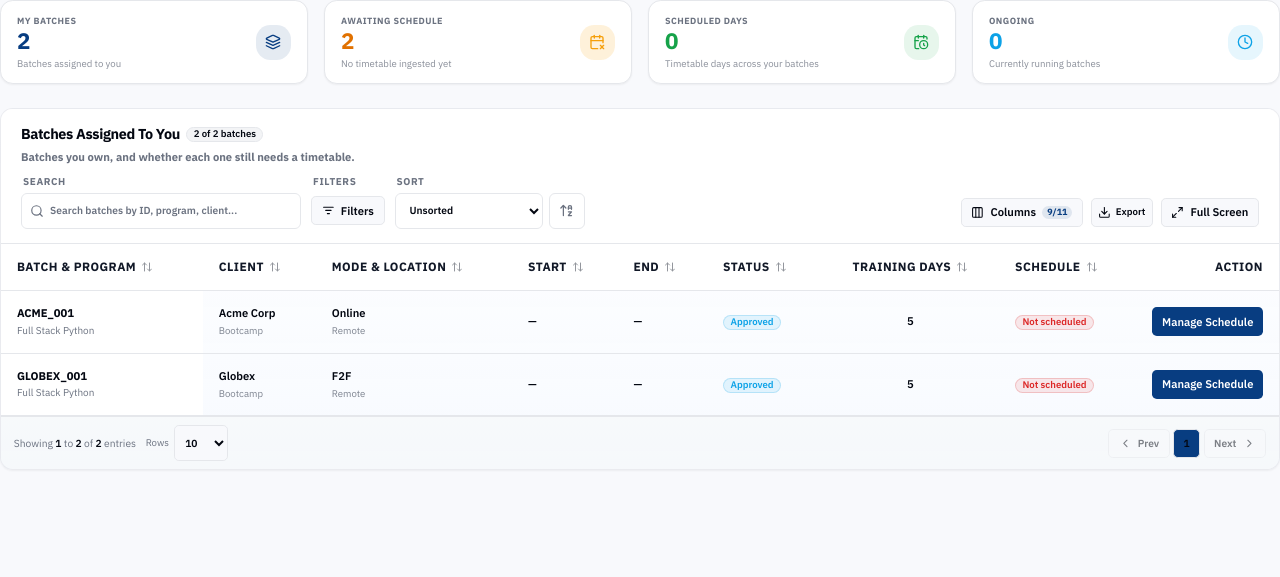
Scenario: MyBatchesView filters › clears every filter back to the full set
The image size is (1280, 577).
Click the button "Filters" at (348, 211), box x1=311 y1=196 x2=384 y2=225
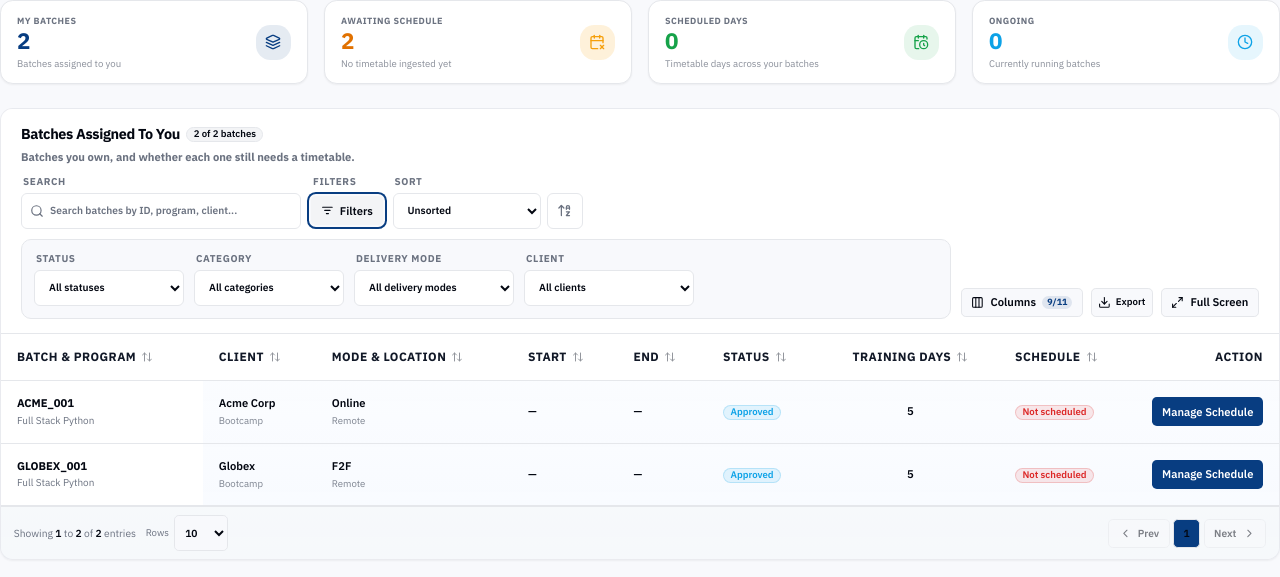
Select "Globex" in the dropdown labelled "Client" at (609, 288), box x1=524 y1=270 x2=694 y2=306
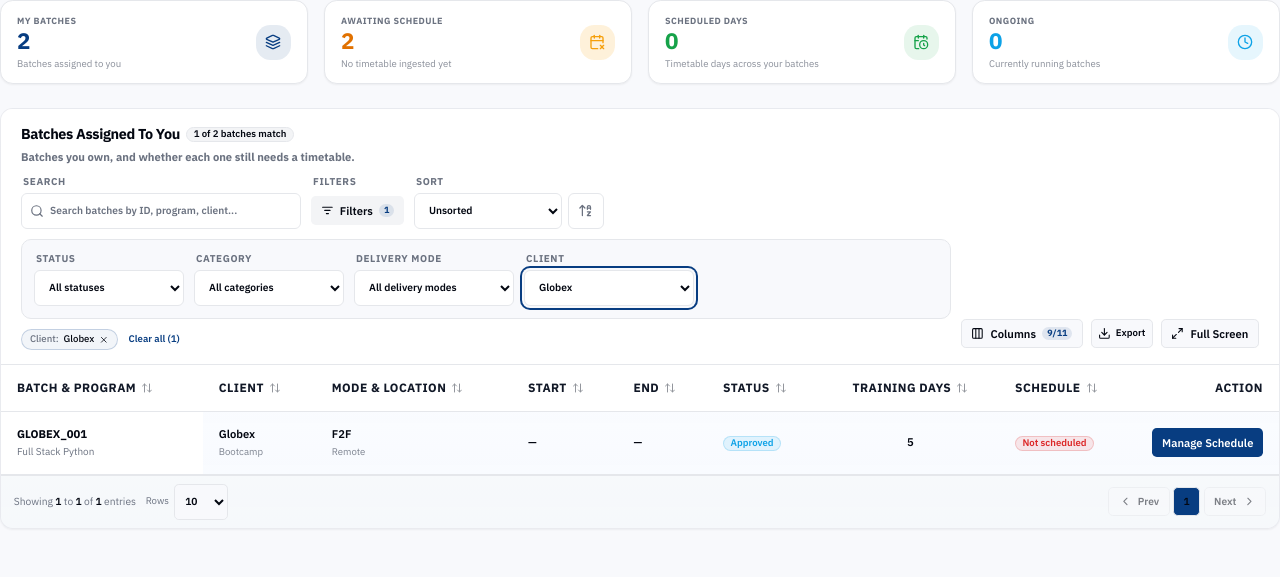
expect the text "ACME_001" is gone: met
Click the button "Clear all (1)" at (154, 339), box x1=124 y1=330 x2=185 y2=349
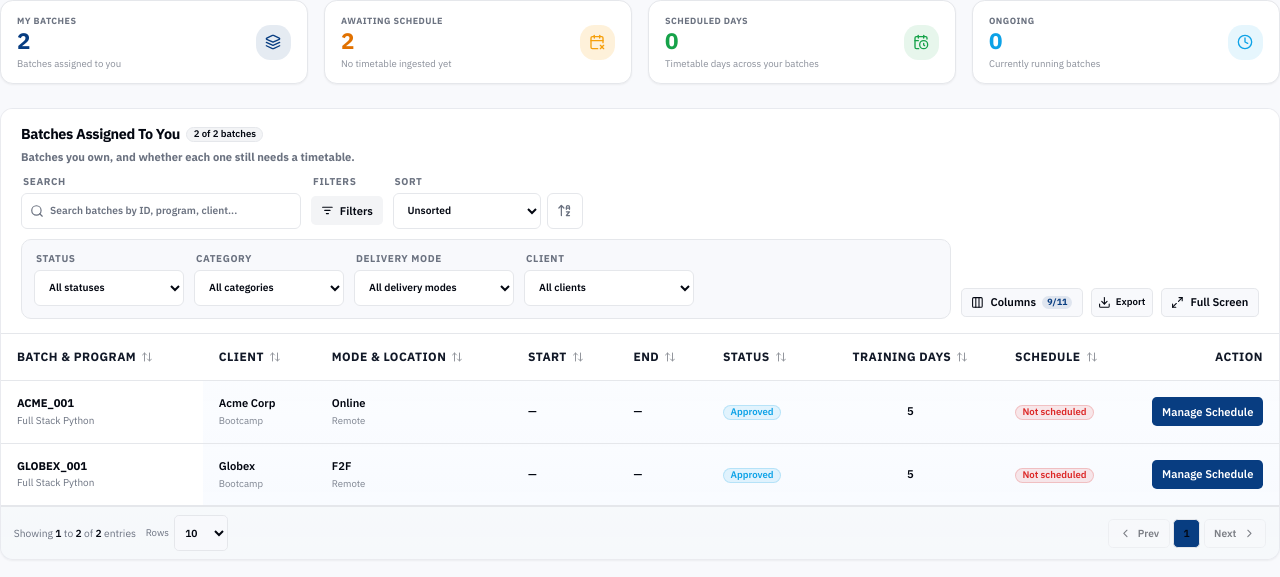
expect the text "GLOBEX_001" is shown: met, box x1=17 y1=458 x2=87 y2=472
expect the text "ACME_001" is shown: met, box x1=17 y1=396 x2=74 y2=410
